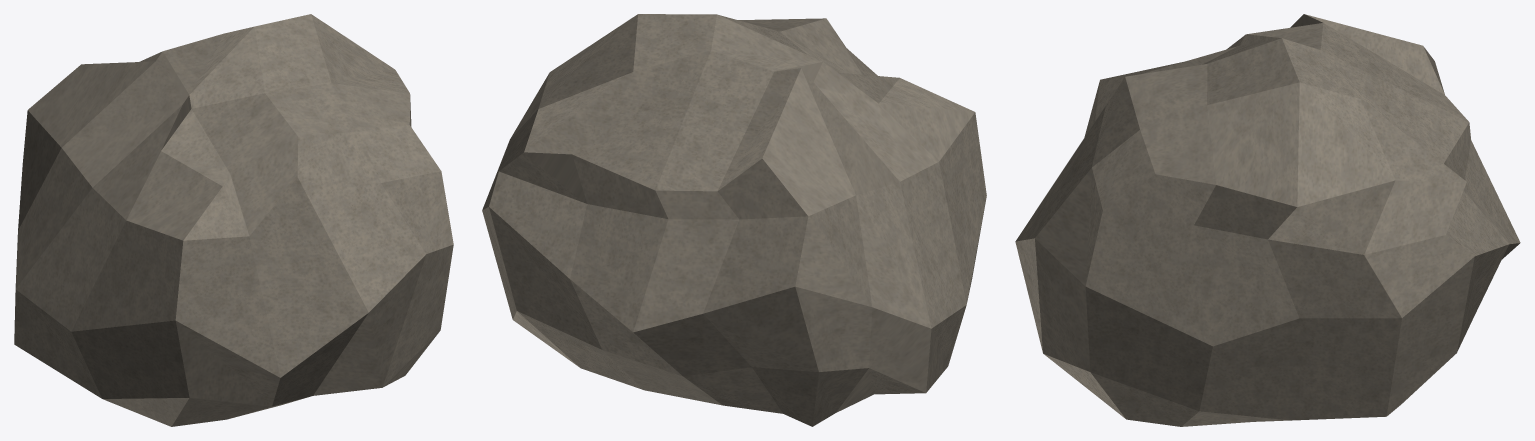
File: Pedra_3_Clara.fbx
The picture shows the model from 3 angles, left to right: view 1: azimuth 30°, elevation 25°; view 2: azimuth 150°, elevation 25°; view 3: azimuth 270°, elevation 25°; orthographic projection. The views are drawn at different scales.
Visible parts, largest first — view 1: Pedra_3; view 2: Pedra_3; view 3: Pedra_3.
Part boxes in pixels (x1,y1,x2,y2): Pedra_3: (14, 14, 453, 426); Pedra_3: (482, 14, 986, 426); Pedra_3: (1015, 14, 1520, 426).
Size of the model in its own units: 289 by 233 by 308.
1 material, 1 textured.
